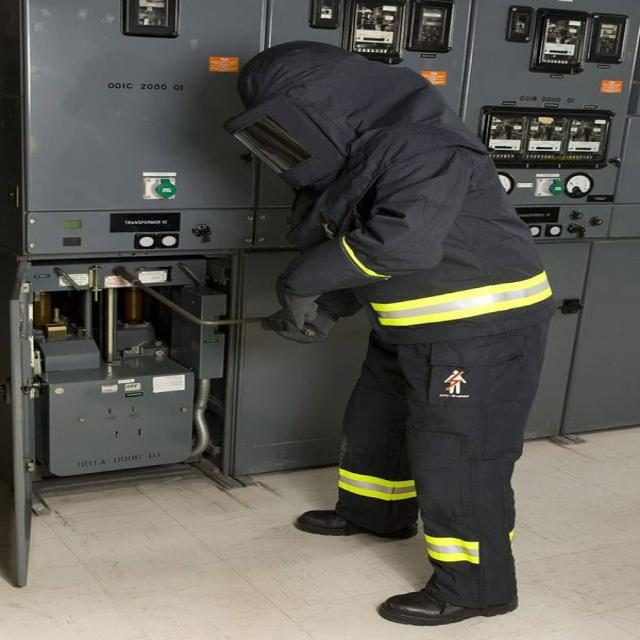shoes: (372, 576, 520, 624), (293, 496, 411, 544)
vest: (302, 140, 566, 603)
